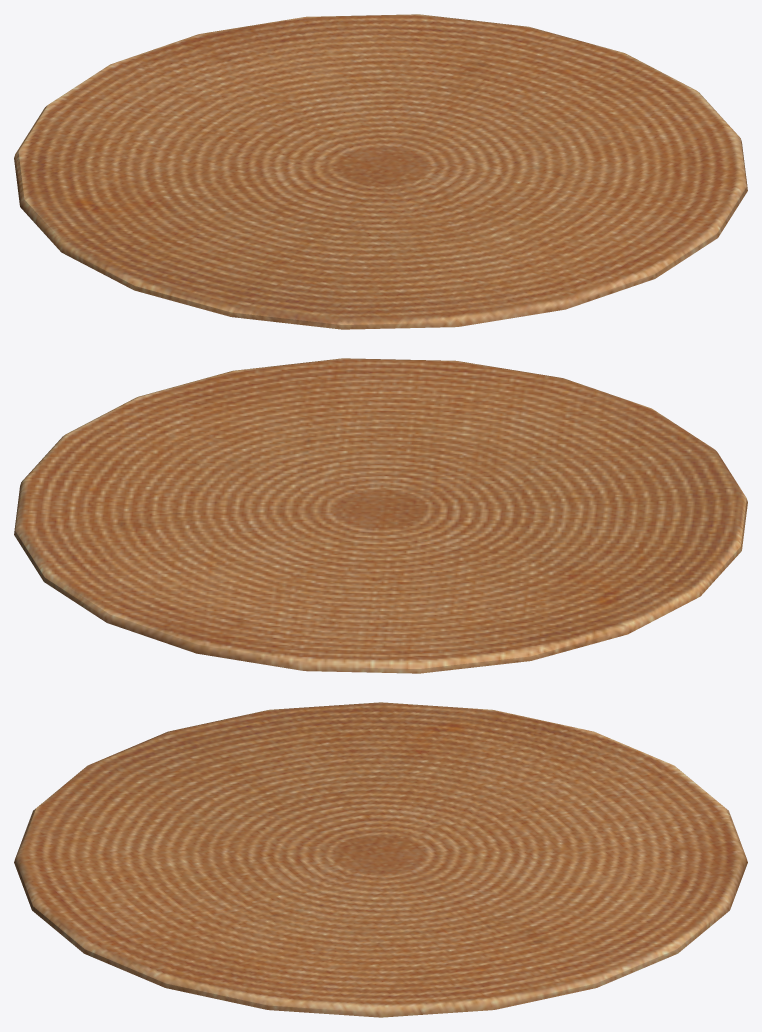
The model's file is SM_Carpet_01.fbx.
The picture shows the model from 3 angles, top to bottom: view 1: azimuth 30°, elevation 25°; view 2: azimuth 150°, elevation 25°; view 3: azimuth 270°, elevation 25°; orthographic projection.
Parts seen in each view (by area): view 1: SM_Carpet_01_LOD0; view 2: SM_Carpet_01_LOD0; view 3: SM_Carpet_01_LOD0.
Part boxes in pixels (x1,y1,x2,y2): SM_Carpet_01_LOD0: (14,14,747,329); SM_Carpet_01_LOD0: (14,358,747,673); SM_Carpet_01_LOD0: (14,702,747,1017).
Size of the model in its own units: 225 by 225 by 2.74.
1 material, 1 textured.
